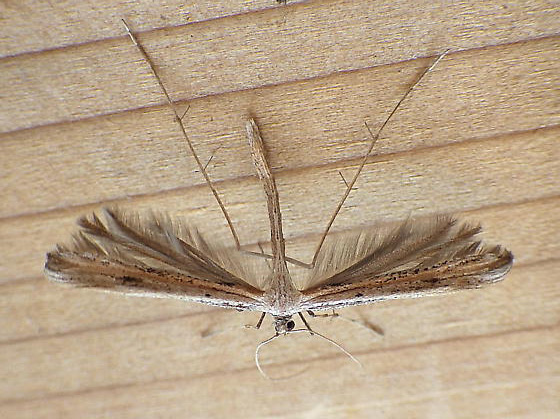Alucitidae: (47, 9, 516, 382)
moth: (49, 11, 518, 384)
